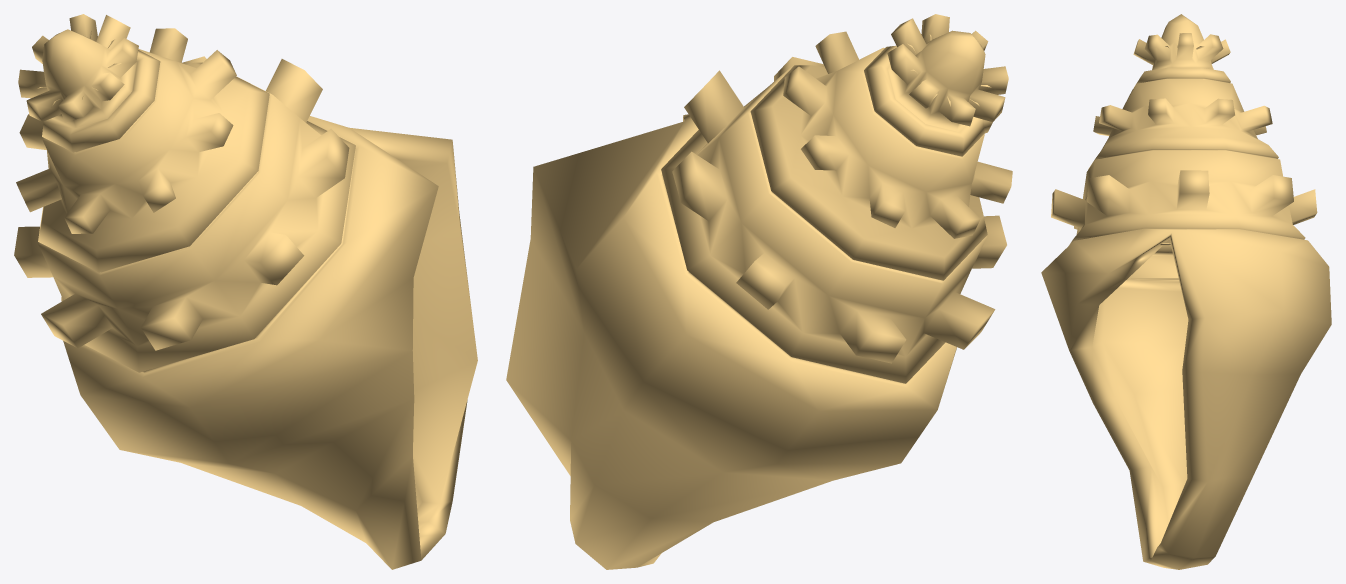
Rendered from Shell.glb.
The picture shows the model from 3 angles, left to right: view 1: azimuth 30°, elevation 25°; view 2: azimuth 150°, elevation 25°; view 3: azimuth 270°, elevation 25°; orthographic projection. The views are drawn at different scales.
Parts seen in each view (by area): view 1: Cube; view 2: Cube; view 3: Cube.
Part boxes in pixels (left/top/right/bottom): Cube: left=14, top=14, right=477, bottom=569; Cube: left=506, top=14, right=1012, bottom=569; Cube: left=1041, top=14, right=1331, bottom=569.
Size of the model in its own units: 0.8029 by 1 by 0.5976.
